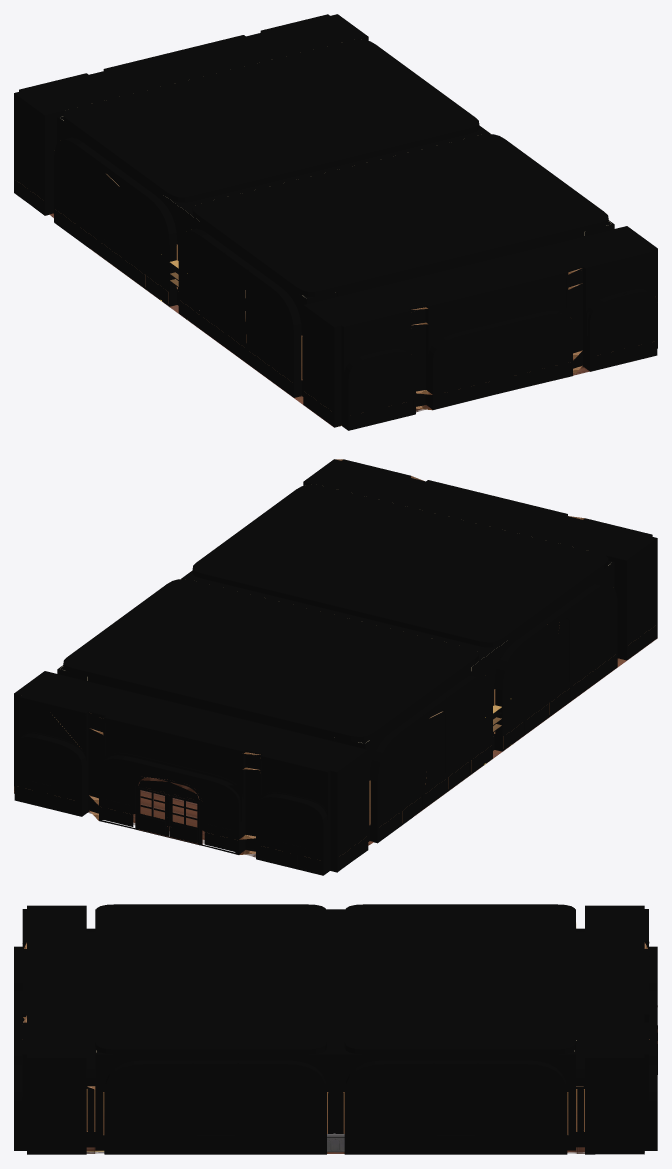
Rendered from cove-room-only.glb.
The picture shows the model from 3 angles, top to bottom: view 1: azimuth 30°, elevation 25°; view 2: azimuth 150°, elevation 25°; view 3: azimuth 270°, elevation 25°; orthographic projection. The views are drawn at different scales.
Parts seen in each view (by area): view 1: Material2.001, Material3.006; view 2: Material2.001, Material3.006, Material3.007, Material3.004; view 3: Material2.001, Material3.004.
Boxes of the visible parts, x1,y1,x2,y2 form: Material2.001: (14,14,657,430); Material3.006: (49,116,611,427); Material2.001: (14,459,657,875); Material3.006: (60,564,657,845); Material3.007: (87,658,618,874); Material3.004: (14,459,584,854); Material2.001: (14,904,657,1154); Material3.004: (22,942,657,1135).
Bounding box in the file's own units: 655 × 203 × 1169.
7 materials, 6 textured.
